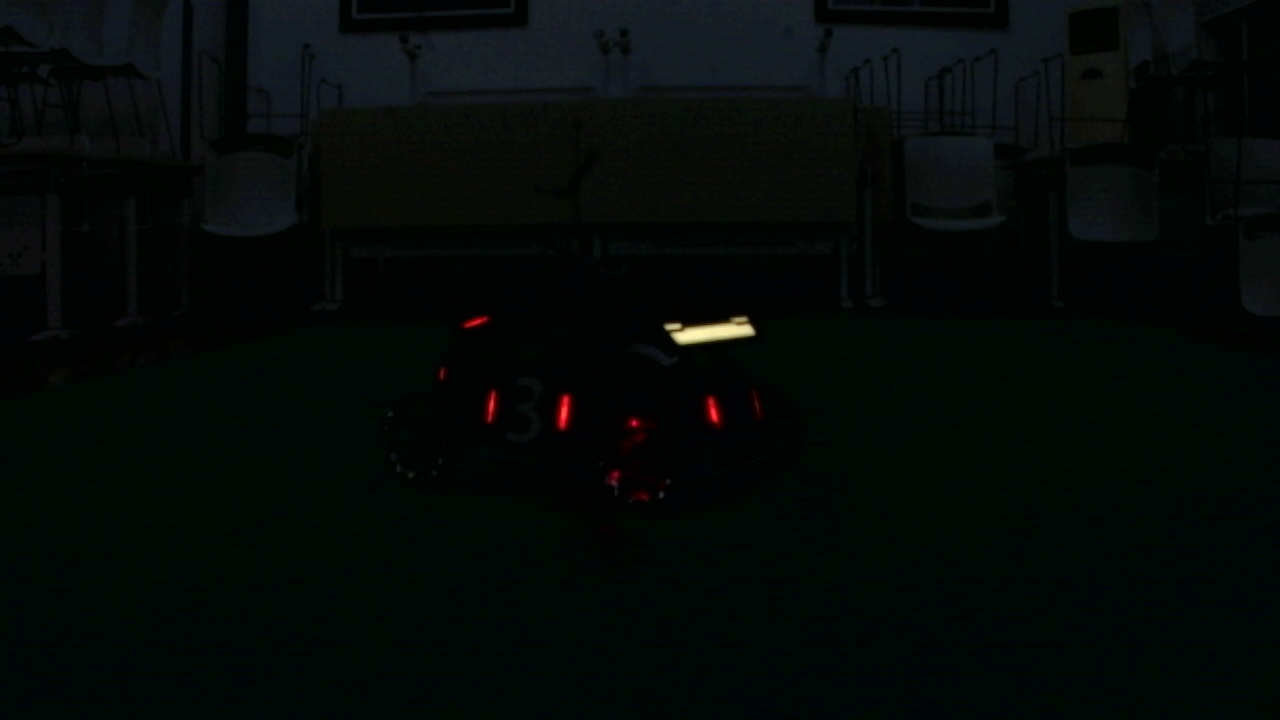lamp: (555, 386, 573, 431), (706, 387, 720, 426), (484, 383, 495, 422)
pair1: (488, 389, 572, 430)
